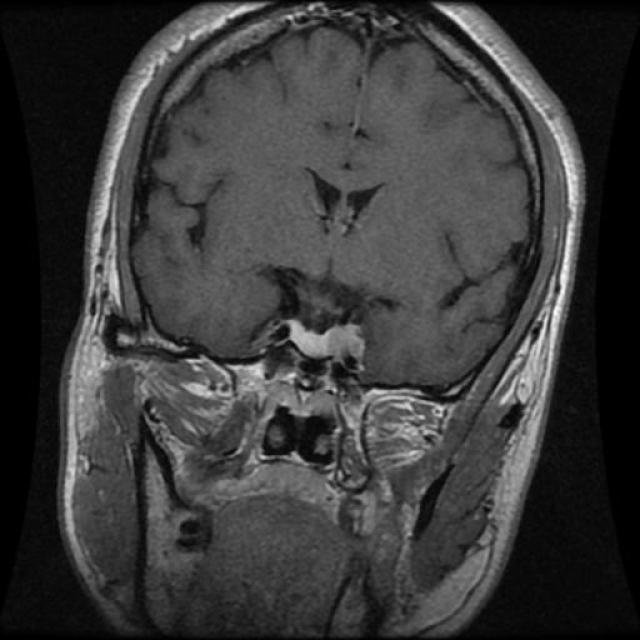pituitary: (242, 297, 383, 383)
